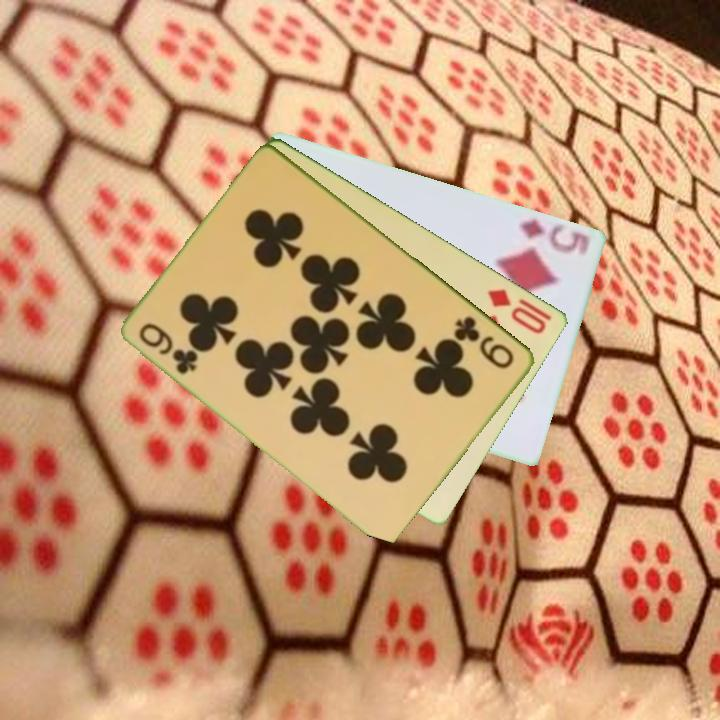10d: (484, 284, 556, 337)
5d: (515, 215, 594, 258)
9c: (451, 312, 518, 372), (135, 319, 202, 378)
